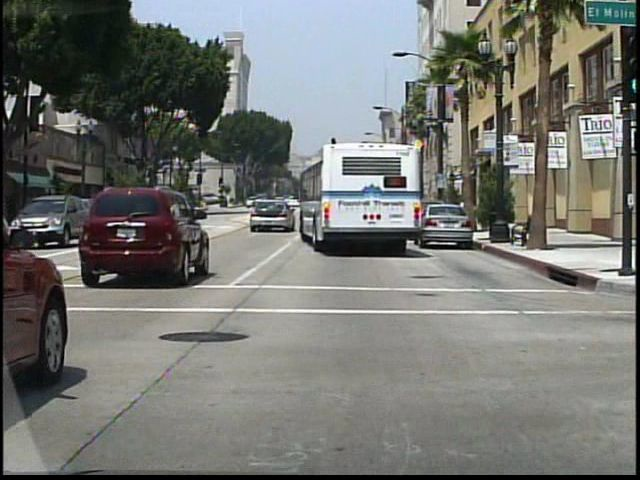person: (453, 190, 464, 229)
